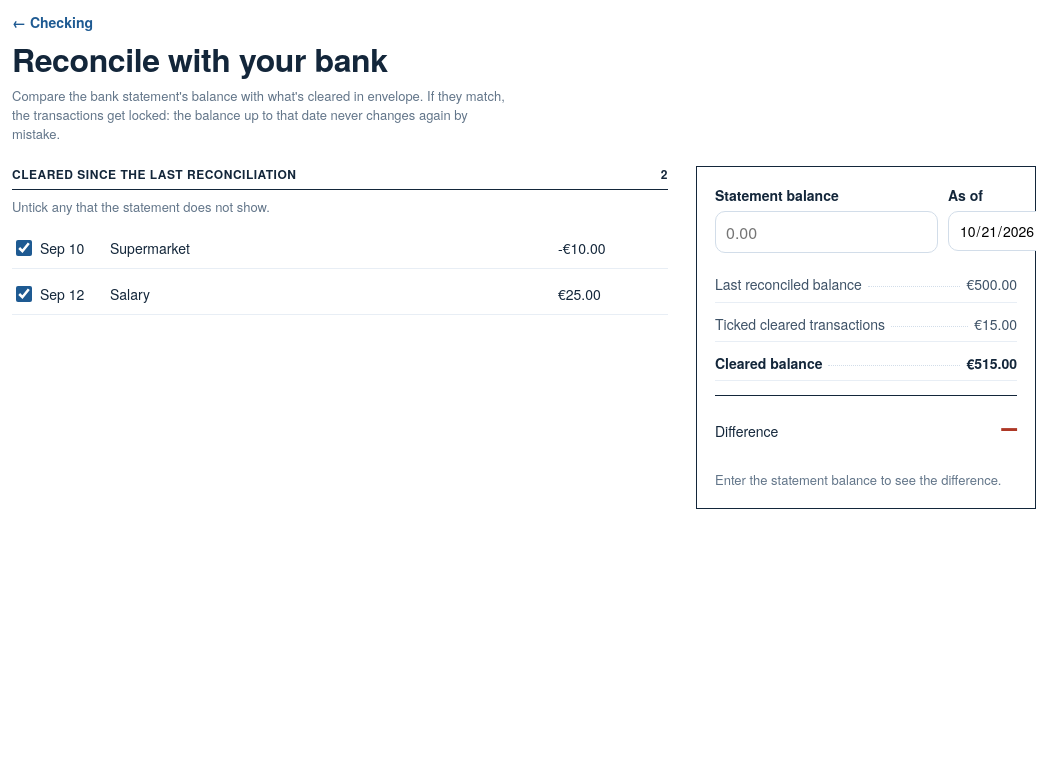
Test: ReconciliationScreen (#60) › locks the ticked transactions on a zero difference
Expected: the link "← Checking" is shown, [12,12,93,32]
Step 1. Type "515.00" into the field labelled "Statement balance" → (826, 232), box [716,212,937,252]
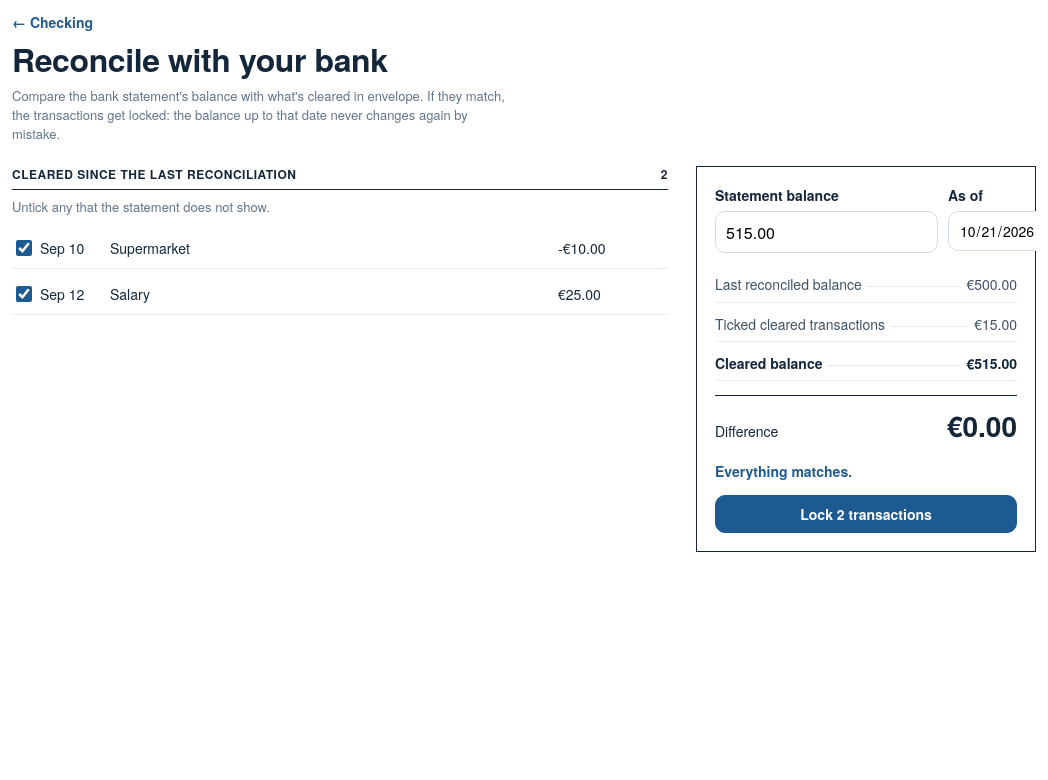
Step 2. Click the button "Lock 2 transactions" → (866, 514), box [715,495,1017,533]
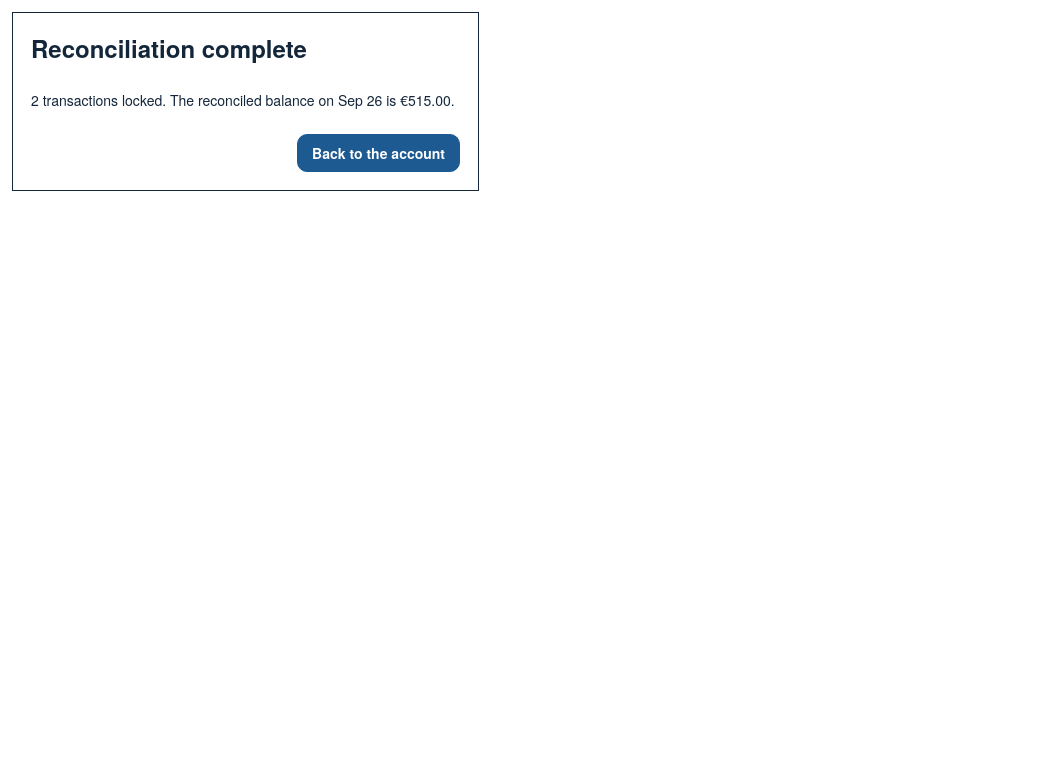
Expected: the heading "Reconciliation complete" is shown, [31,31,307,65]
